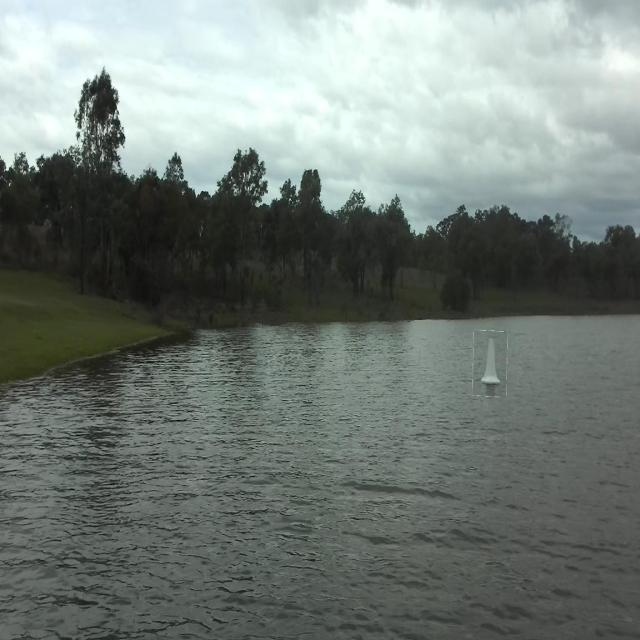White_Buoy: (472, 322, 506, 408)
